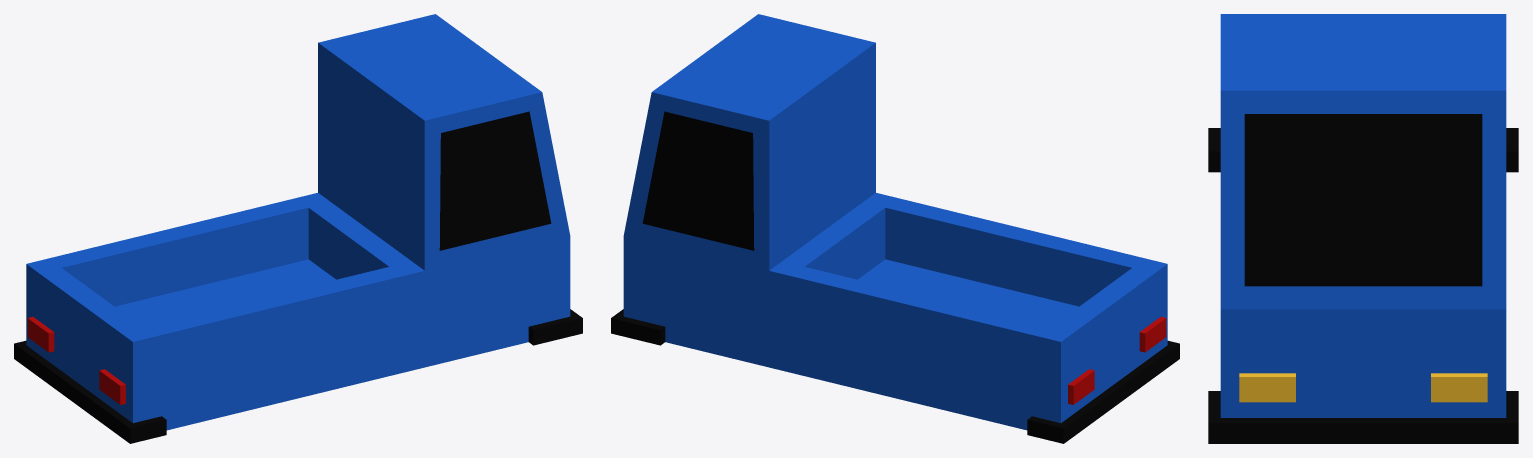
Rendered from CityTruckB_03.fbx.
3 renders of one model, left to right at view 1: azimuth 30°, elevation 25°; view 2: azimuth 150°, elevation 25°; view 3: azimuth 270°, elevation 25°, orthographic. The views are drawn at different scales.
Parts seen in each view (by area): view 1: CityTruckB_03; view 2: CityTruckB_03; view 3: CityTruckB_03.
Boxes of the visible parts, bbox=[...] form: CityTruckB_03: bbox=[14, 14, 582, 443]; CityTruckB_03: bbox=[611, 14, 1179, 443]; CityTruckB_03: bbox=[1208, 14, 1518, 443].
Bounding box in the file's own units: 0.5913 × 0.308 × 0.2626.
